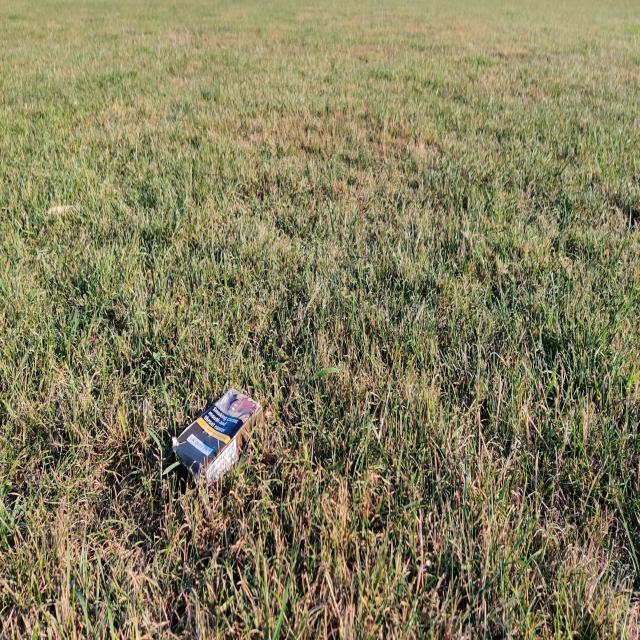litter: (171, 386, 264, 489)
